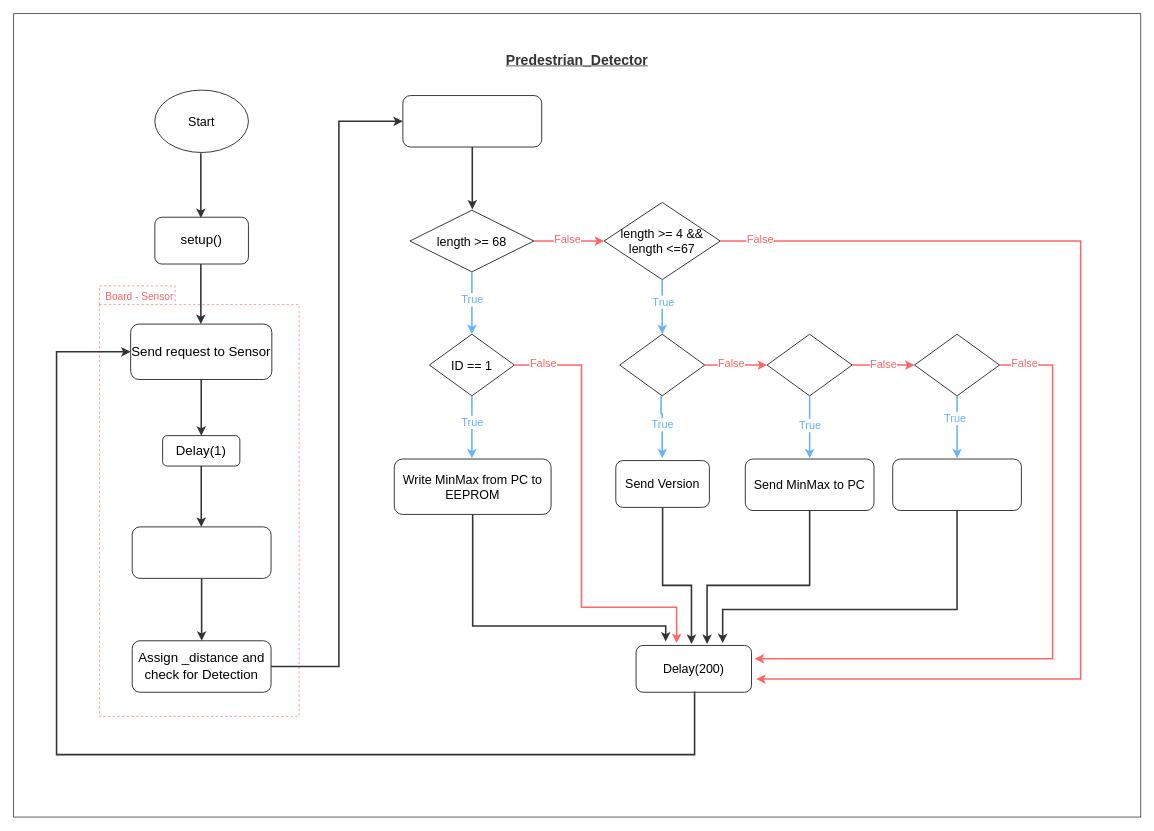
Some shapes in this 1154 by 831 pixel diagram are drawn without their labels. Each missing label, with the centre of its shape:
"ID == 0" goes at point 662,364.
"ID == 2" goes at point 809,364.
"ID == 3" goes at point 957,364.
"Recieve command from PC" goes at point 472,121.
"Recieve Data From Sensor" goes at point 201,552.
"Send Distance to PC" goes at point 956,484.
